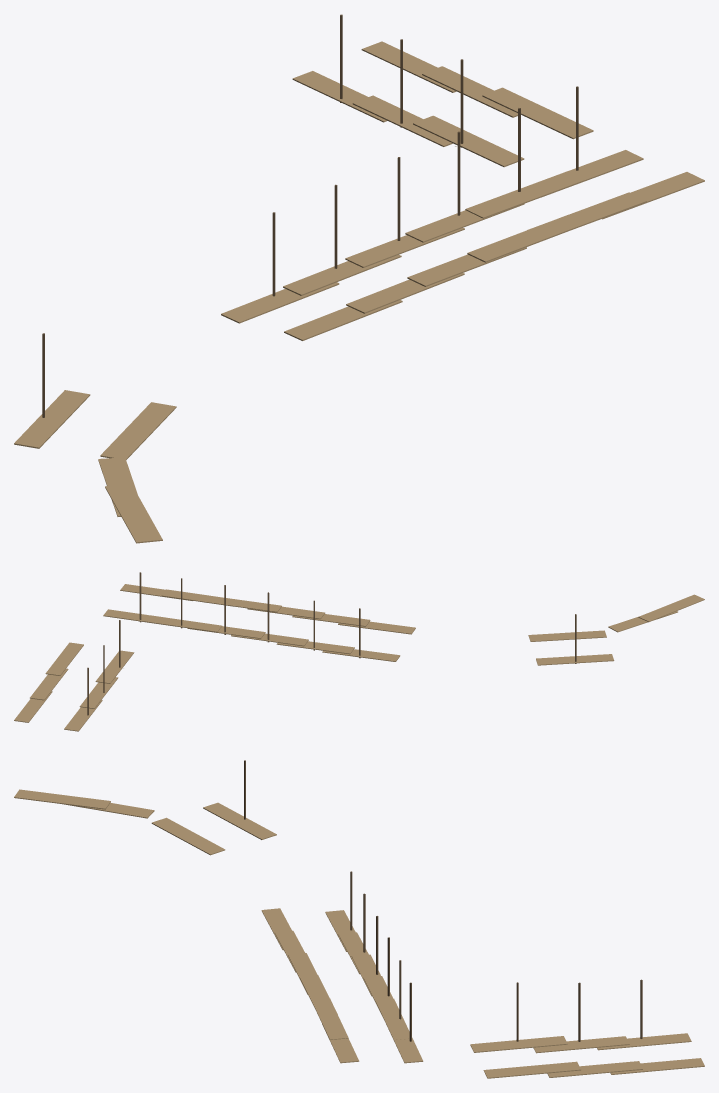
Rendered from noord_res_-25_-23.glb.
3 views of the same model, one above another, from view 1: azimuth 30°, elevation 25°; view 2: azimuth 150°, elevation 25°; view 3: azimuth 270°, elevation 25° (orthographic). The views are drawn at different scales.
Parts seen in each view (by area): view 1: noord_res_-25_-23_lod0; view 2: noord_res_-25_-23_lod0; view 3: noord_res_-25_-23_lod0.
Boxes of the visible parts, x1,y1,x2,y2 form: noord_res_-25_-23_lod0: [14, 14, 704, 543]; noord_res_-25_-23_lod0: [14, 572, 704, 731]; noord_res_-25_-23_lod0: [14, 760, 704, 1078].
Size of what is drawn, in the model's own units: 81.09 by 11.5 by 86.74.
